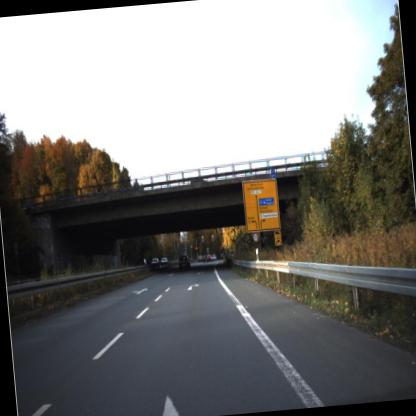prohibitory: (249, 232, 260, 244)
